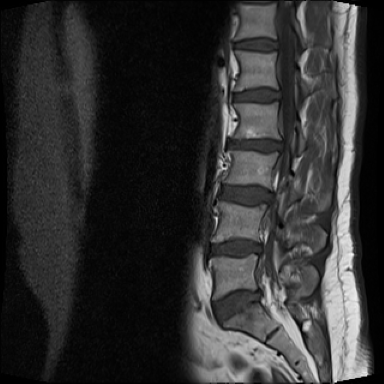Degenerative Disc Disease (DDD): (225, 83, 285, 107)
Lumbar Disc Bulge (LDB): (204, 283, 268, 329), (210, 177, 279, 213), (217, 131, 289, 161), (202, 234, 269, 264)
Spinal Stenosis (SS): (249, 230, 272, 268), (271, 126, 292, 159), (262, 180, 280, 214), (252, 281, 270, 310)
Thoracic Disc Bulge (TDB): (222, 34, 284, 56)
